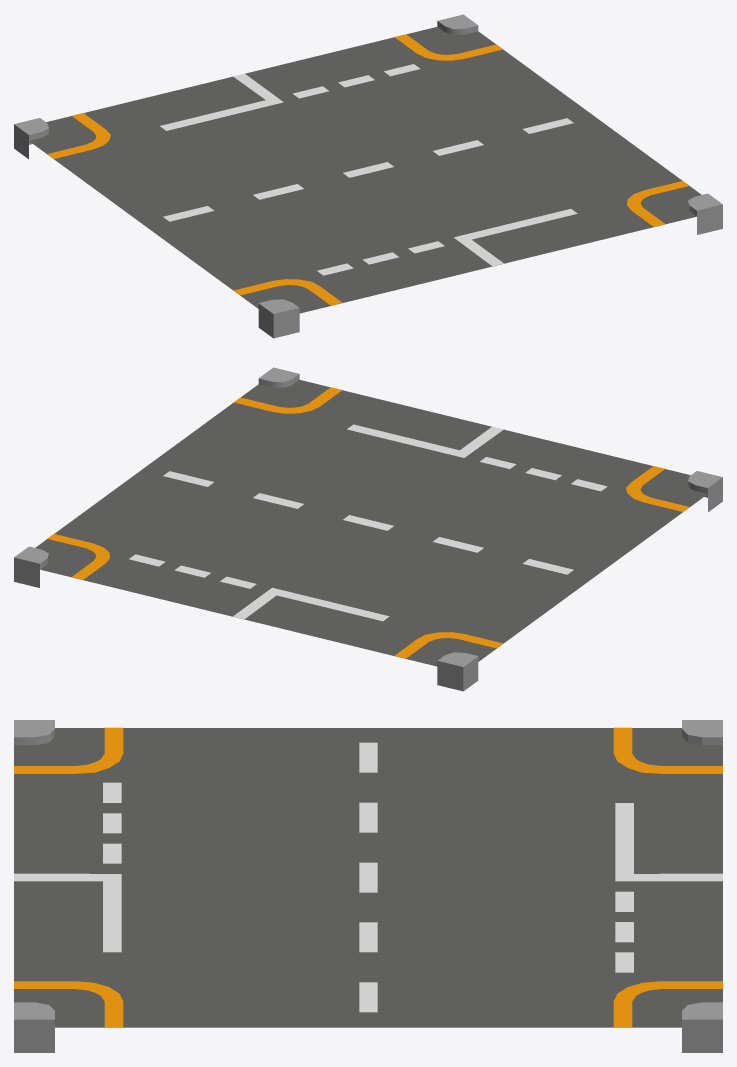
File: Road_B_7.glb
3 views of the same model, one above another, from view 1: azimuth 30°, elevation 25°; view 2: azimuth 150°, elevation 25°; view 3: azimuth 270°, elevation 25° (orthographic). The views are drawn at different scales.
Parts seen in each view (by area): view 1: Road_B_7; view 2: Road_B_7; view 3: Road_B_7.
Boxes of the visible parts, x1,y1,x2,y2 form: Road_B_7: (14, 14, 722, 338); Road_B_7: (14, 367, 722, 691); Road_B_7: (14, 720, 722, 1052).
Bounding box in the file's own units: 8 × 0.4148 × 8.
1 material, 1 textured.
